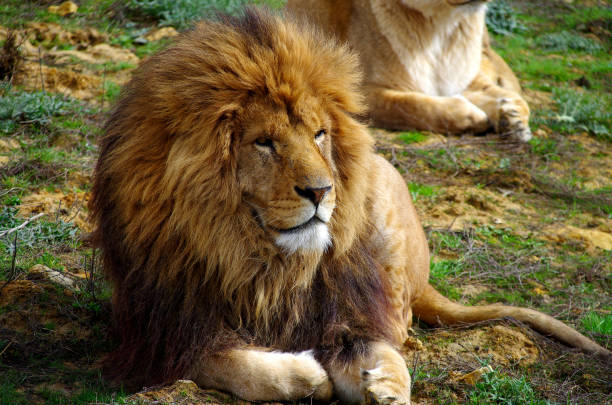lion: (48, 6, 451, 395)
